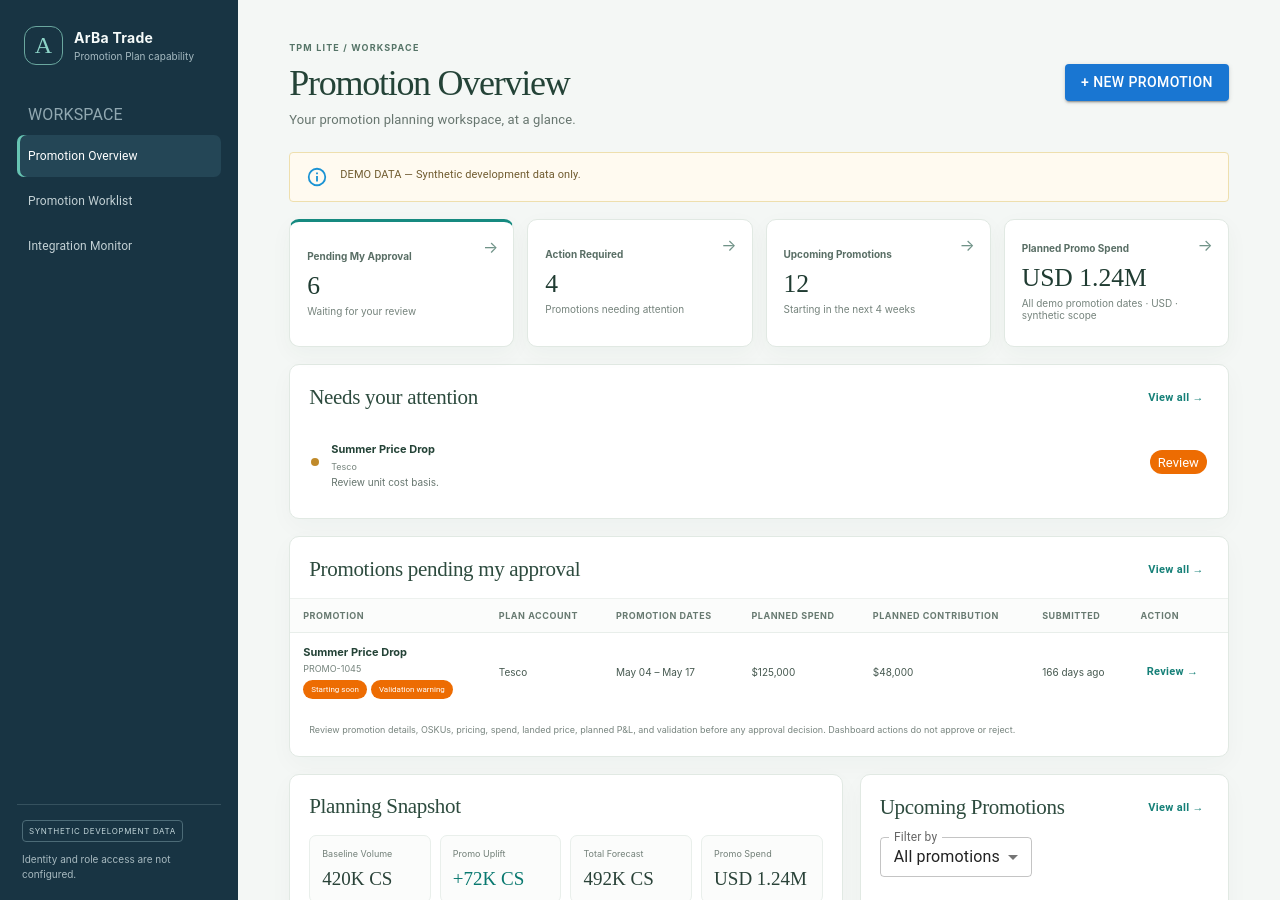
Scenario: ArBa Trade Promotion Plan capability dashboard › opens the filtered Promotion Worklist when an approval KPI is activated
Click the link with aria-label "Pending My Approval: 6" at [359, 256], box top-left (290, 222), bottom-right (513, 346)
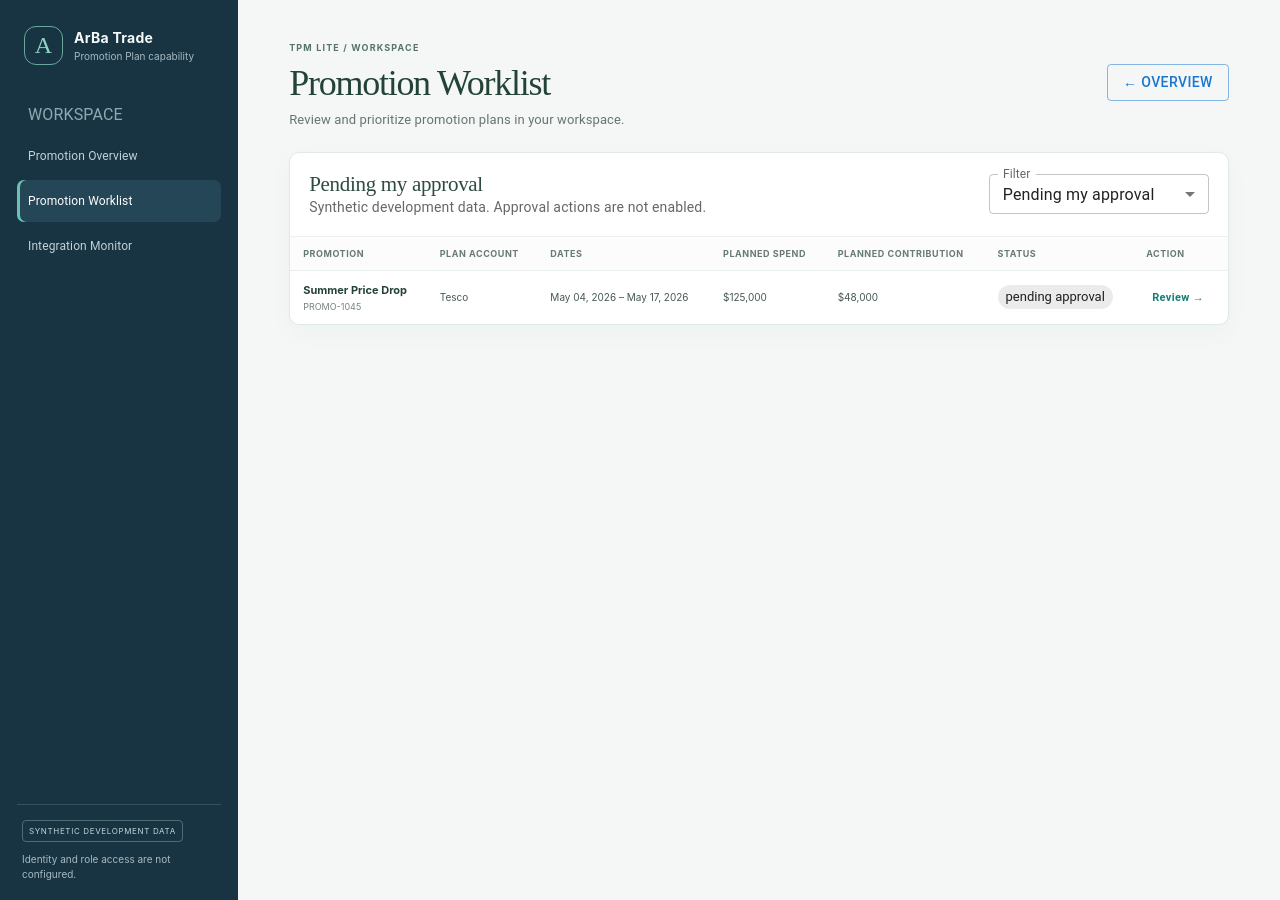
Expected: the link "Summer Price Drop" is shown, top-left (303, 283), bottom-right (407, 297)
Expected: the heading "Promotion Worklist" is shown, top-left (289, 63), bottom-right (550, 103)
